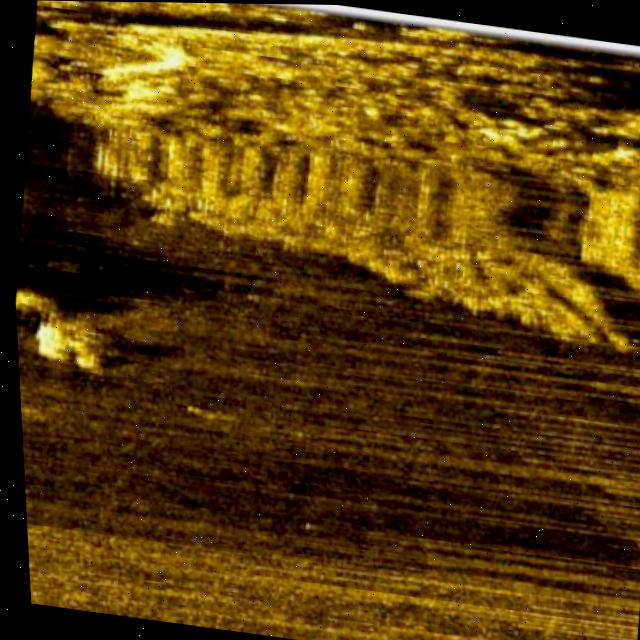bedrock group: (4, 0, 640, 352)
